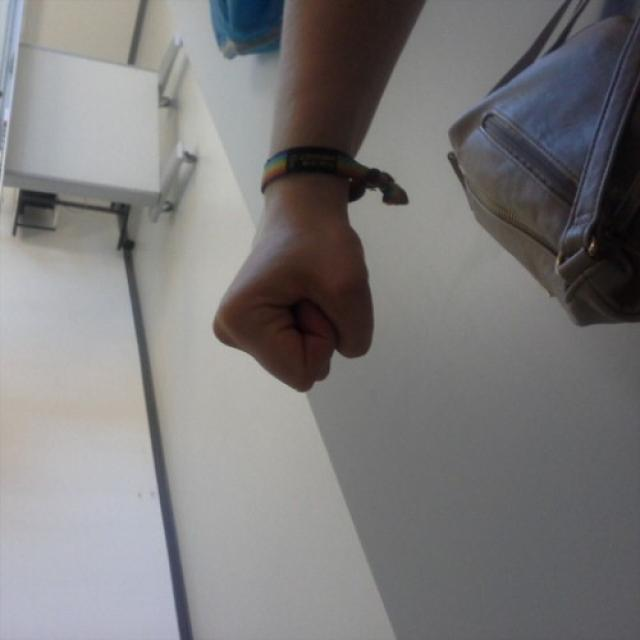fist: (206, 194, 386, 405)
